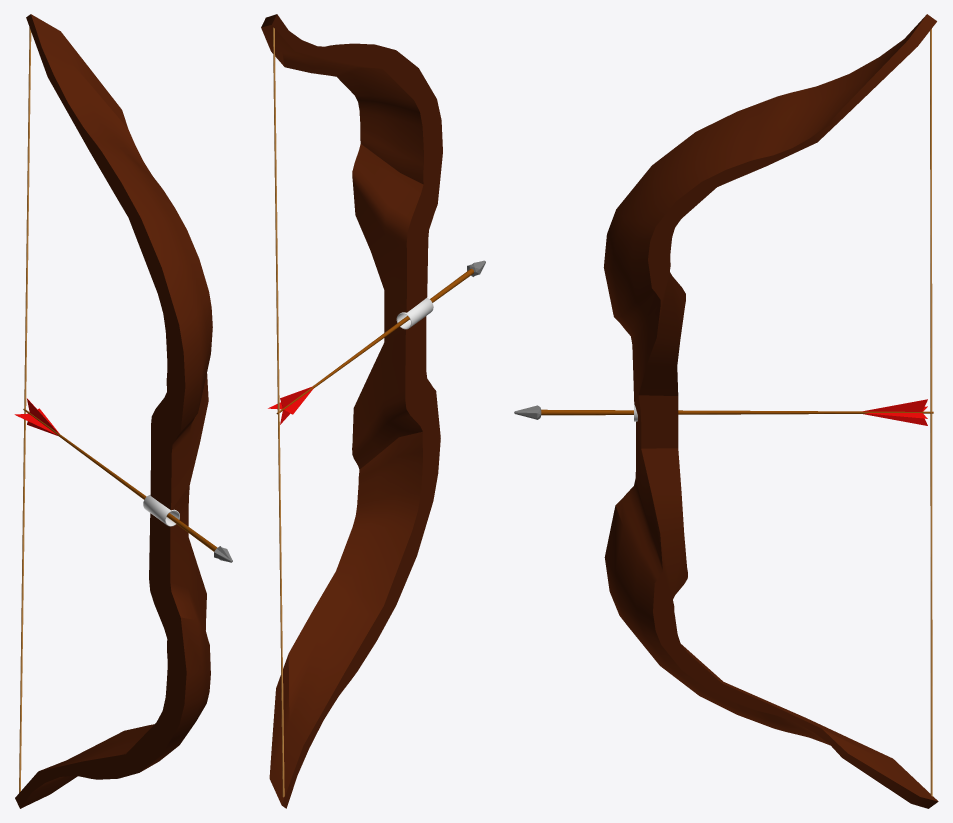
The model's file is arcoyflecha.fbx.
3 views of the same model, side by side, from view 1: azimuth 30°, elevation 25°; view 2: azimuth 150°, elevation 25°; view 3: azimuth 270°, elevation 25° (orthographic).
Parts seen in each view (by area): view 1: Circle.001, Cylinder.003, Cylinder.001; view 2: Circle.001, Cylinder.003, Cylinder.001; view 3: Circle.001, Cylinder.003.
Part boxes in pixels (x1=…): Circle.001: x1=15, y1=14, x2=212, y2=808; Cylinder.003: x1=14, y1=398, x2=232, y2=562; Cylinder.001: x1=143, y1=494, x2=179, y2=526; Circle.001: x1=261, y1=14, x2=442, y2=808; Cylinder.003: x1=268, y1=260, x2=485, y2=424; Cylinder.001: x1=396, y1=298, x2=433, y2=329; Circle.001: x1=603, y1=14, x2=938, y2=808; Cylinder.003: x1=514, y1=399, x2=933, y2=425.
Size of the model in its own units: 16.43 by 196 by 94.31.
